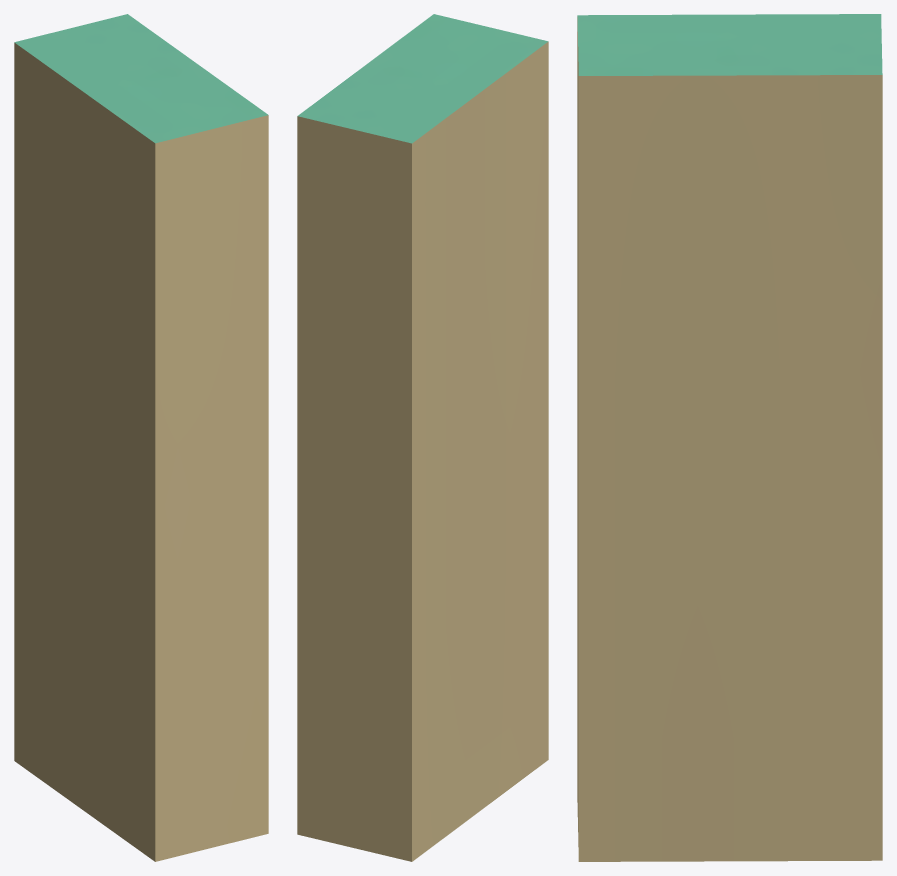
File: Blocks-090.fbx
3 renders of one model, left to right at view 1: azimuth 30°, elevation 25°; view 2: azimuth 150°, elevation 25°; view 3: azimuth 270°, elevation 25°, orthographic. The views are drawn at different scales.
Parts seen in each view (by area): view 1: Blocks-090; view 2: Blocks-090; view 3: Blocks-090.
Part boxes in pixels (x1,y1,x2,y2): Blocks-090: (14,14,268,861); Blocks-090: (297,14,548,861); Blocks-090: (577,14,882,861).
Size of the model in its own units: 5391 by 31798 by 11187.
